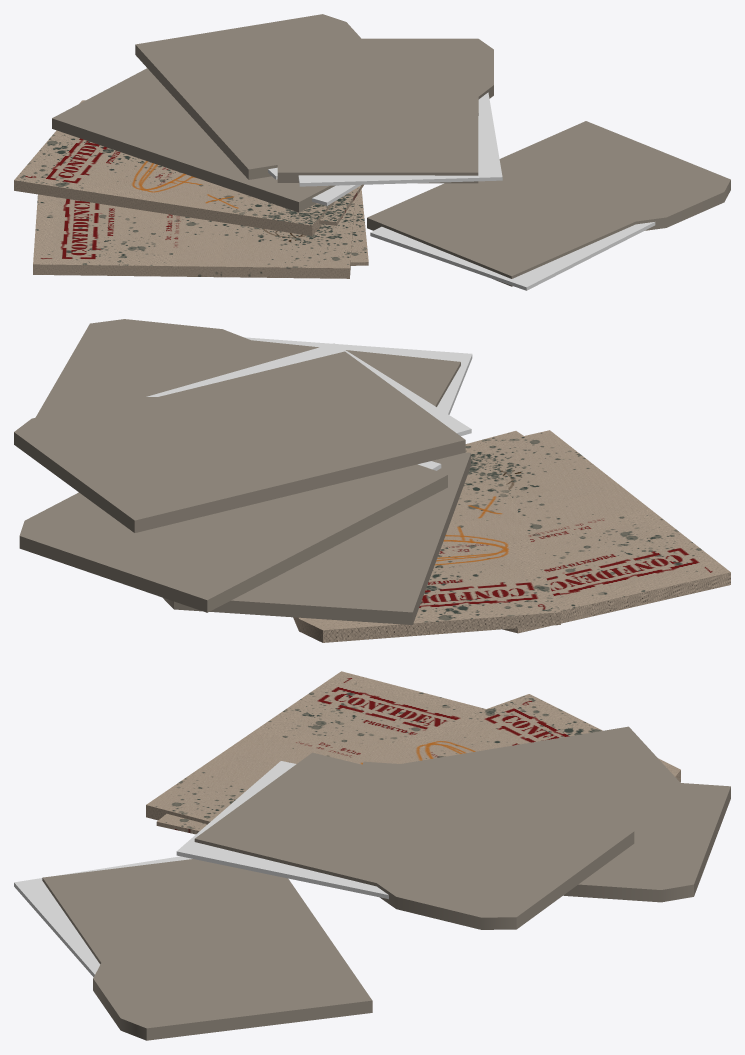
The model's file is Carpetas juntas.fbx.
The picture shows the model from 3 angles, top to bottom: view 1: azimuth 30°, elevation 25°; view 2: azimuth 150°, elevation 25°; view 3: azimuth 270°, elevation 25°; orthographic projection. The views are drawn at different scales.
Visible parts, largest first — view 1: file5, file4, file2, file3, file, file1; view 2: file4, file3, file2, file5, file, file1; view 3: file4, file5, file3, file2, file1, file.
Part boxes in pixels (box(x1,y1,x2,y2)): file5: box(367, 121, 730, 290); file4: box(277, 38, 502, 186); file2: box(33, 189, 368, 278); file3: box(135, 14, 360, 179); file: box(14, 100, 363, 235); file1: box(52, 68, 360, 212); file4: box(14, 343, 471, 532); file3: box(19, 461, 447, 612); file2: box(465, 430, 730, 633); file5: box(35, 319, 472, 417); file: box(293, 453, 560, 642); file1: box(163, 452, 470, 624); file4: box(176, 752, 634, 929); file5: box(14, 856, 372, 1040); file3: box(362, 761, 730, 902); file2: box(146, 671, 485, 834); file1: box(401, 726, 680, 782); file: box(343, 694, 680, 782).
Size of the model in its own units: 2.36 by 0.2162 by 2.03.
4 materials, 2 textured.
